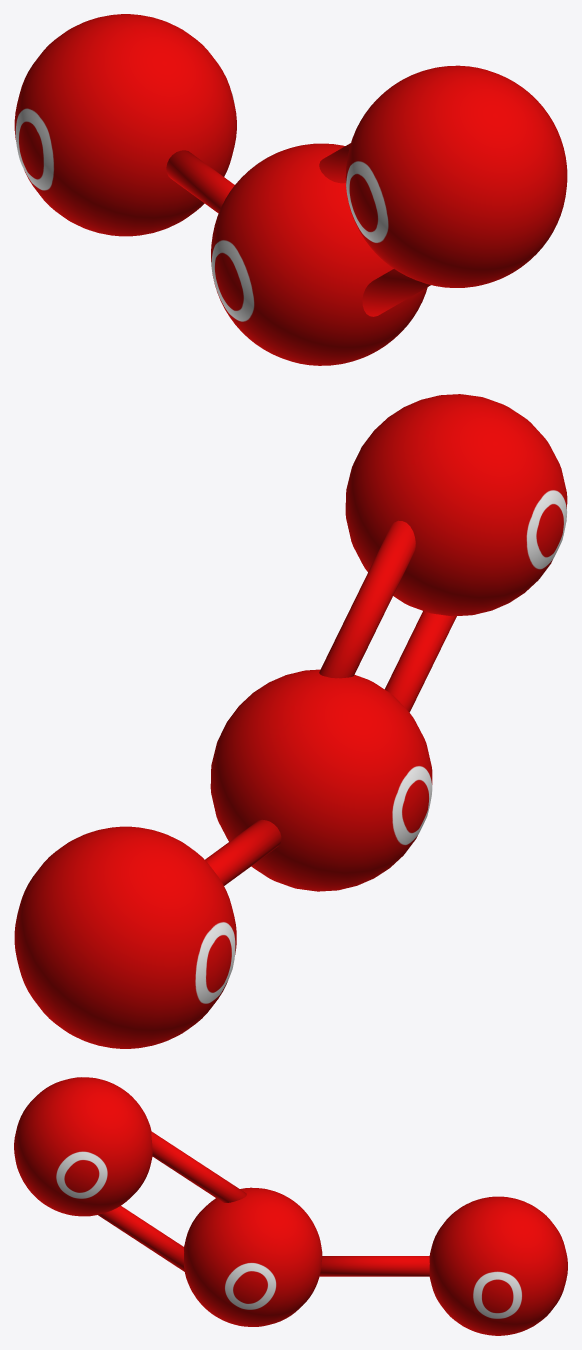
File: ozonio.glb
The picture shows the model from 3 angles, top to bottom: view 1: azimuth 30°, elevation 25°; view 2: azimuth 150°, elevation 25°; view 3: azimuth 270°, elevation 25°; orthographic projection. The views are drawn at different scales.
Visible parts, largest first — view 1: Mol molde 21; view 2: Mol molde 21; view 3: Mol molde 21.
Part boxes in pixels (<box>): Mol molde 21: <box>14,14,567,365</box>; Mol molde 21: <box>14,394,567,1048</box>; Mol molde 21: <box>14,1077,567,1335</box>.
Size of the model in its own units: 0.3054 by 0.5938 by 1.21.
2 materials, 2 textured.
